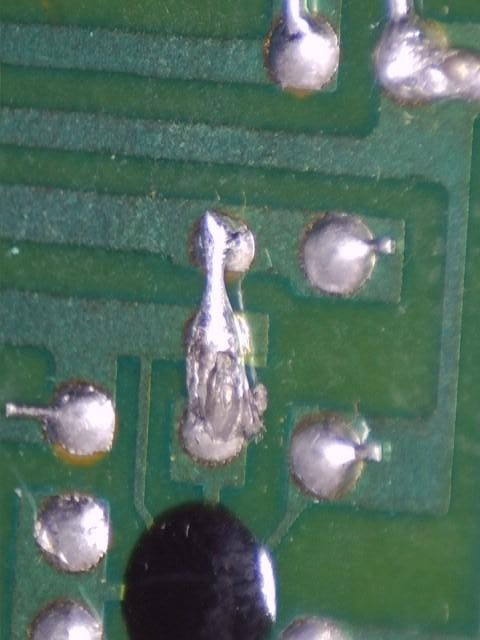pcb_defect: (182, 210, 266, 460)
